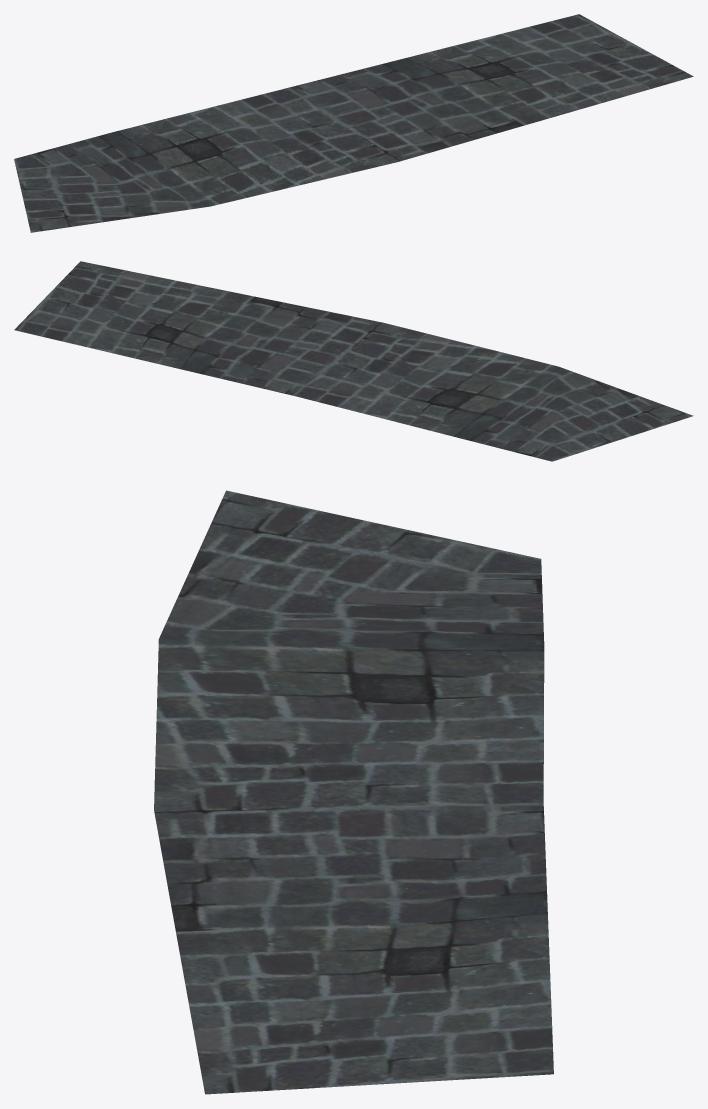
File: blend_brick08.fbx
3 renders of one model, top to bottom at view 1: azimuth 30°, elevation 25°; view 2: azimuth 150°, elevation 25°; view 3: azimuth 270°, elevation 25°, orthographic. The views are drawn at different scales.
Visible parts, largest first — view 1: new_stone/brick_blend_shadow; view 2: new_stone/brick_blend_shadow; view 3: new_stone/brick_blend_shadow.
Boxes of the visible parts, box(x1,y1,x2,y2) form: new_stone/brick_blend_shadow: box(14, 14, 693, 232); new_stone/brick_blend_shadow: box(14, 261, 693, 461); new_stone/brick_blend_shadow: box(154, 490, 553, 1094).
Size of the model in its own units: 9.75 by 0.0526 by 2.73.
